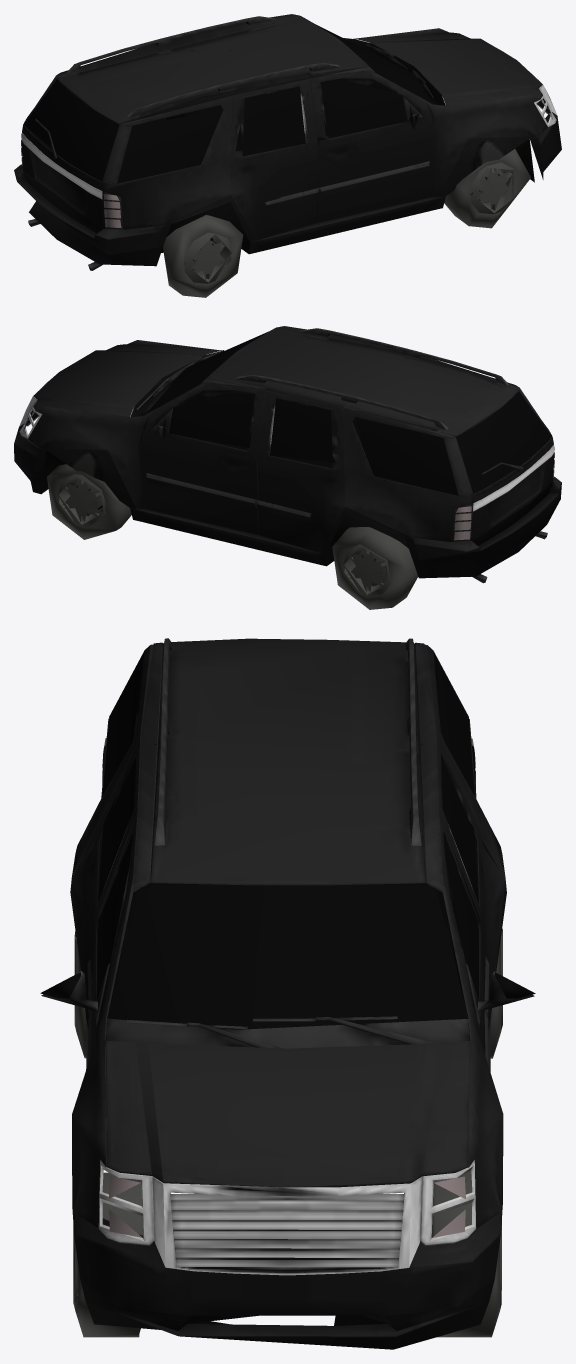
Rendered from pc-suv.lod1.glb.
The picture shows the model from 3 angles, top to bottom: view 1: azimuth 30°, elevation 25°; view 2: azimuth 150°, elevation 25°; view 3: azimuth 270°, elevation 25°; orthographic projection. The views are drawn at different scales.
Parts seen in each view (by area): view 1: Wheel_E_Body_0, Wheel_E_Wheel_0; view 2: Wheel_E_Body_0, Wheel_E_Wheel_0; view 3: Wheel_E_Body_0, Wheel_E_Wheel_0.
Boxes of the visible parts, x1,y1,x2,y2 form: Wheel_E_Body_0: (14, 14, 561, 270); Wheel_E_Wheel_0: (21, 24, 552, 297); Wheel_E_Body_0: (14, 326, 561, 583); Wheel_E_Wheel_0: (23, 331, 554, 609); Wheel_E_Body_0: (40, 638, 535, 1349); Wheel_E_Wheel_0: (73, 652, 502, 1337).
Size of the model in its own units: 4.61 by 1.73 by 2.05.
Materials: 2 (1 with a texture image).
